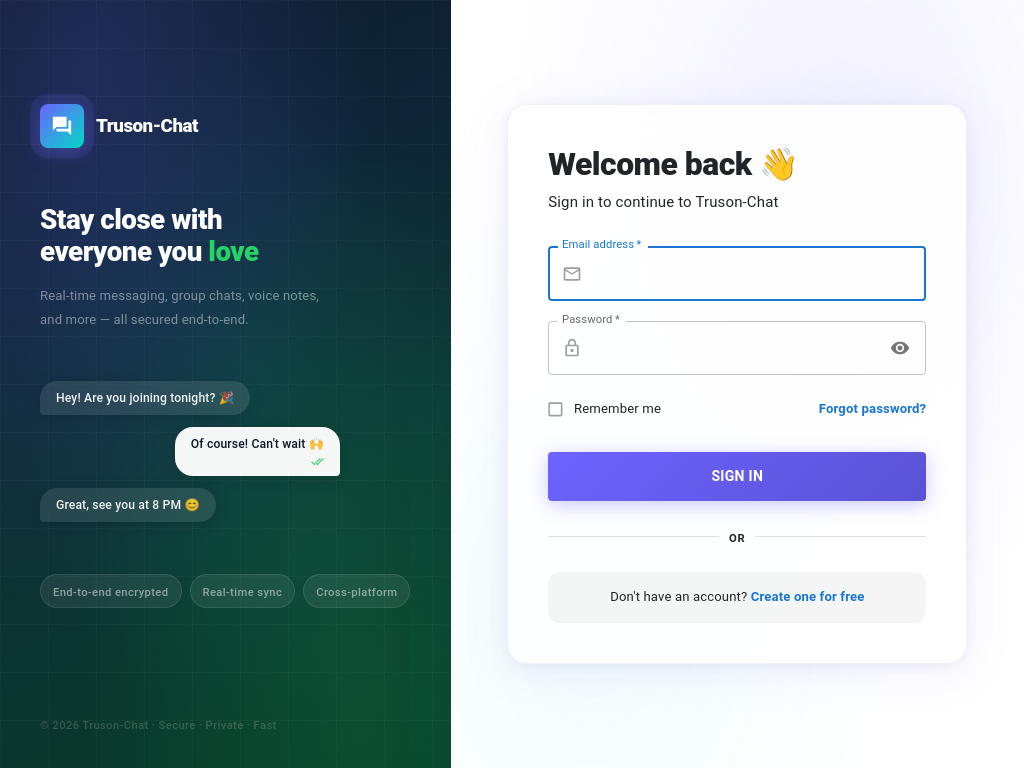
Test: LoginPage › shows validation errors when submitting empty form
Click the button "Sign in".
click(737, 476)  # box left=548, top=452, right=926, bottom=501
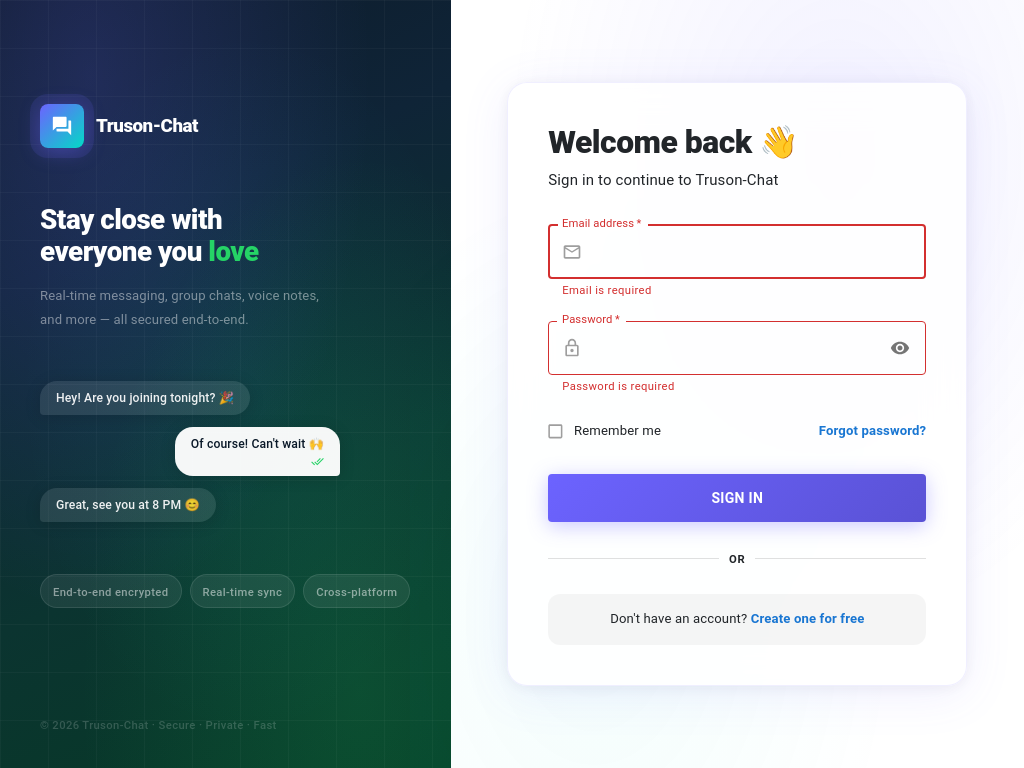
Expected: the text "Email is required" is shown, left=562, top=284, right=652, bottom=297
